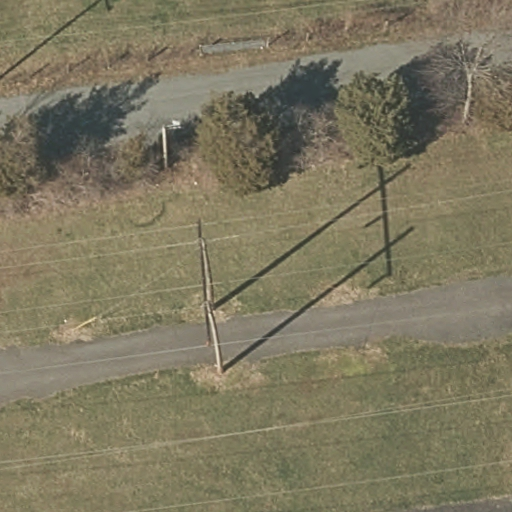DT: (198, 235, 215, 314)
